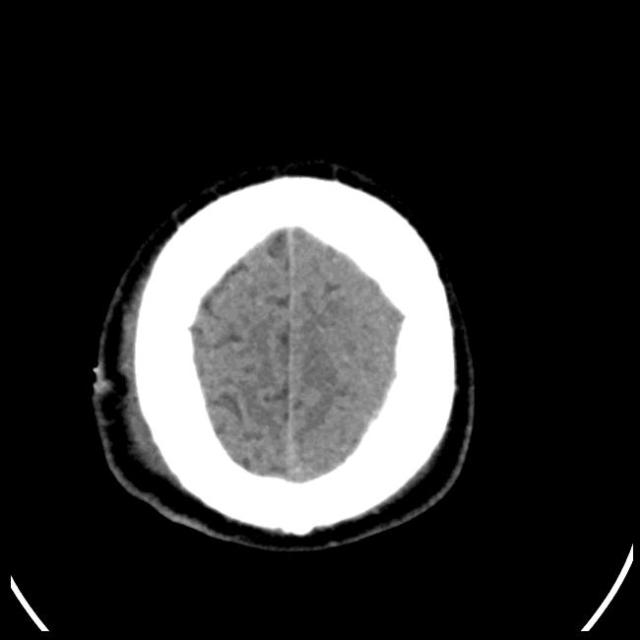lesion: (88, 156, 480, 554)
